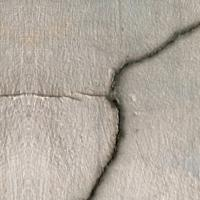crack: (70, 18, 199, 199)
